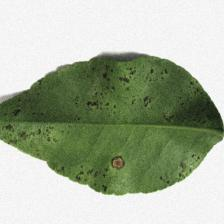canker: (12, 94, 138, 196)
